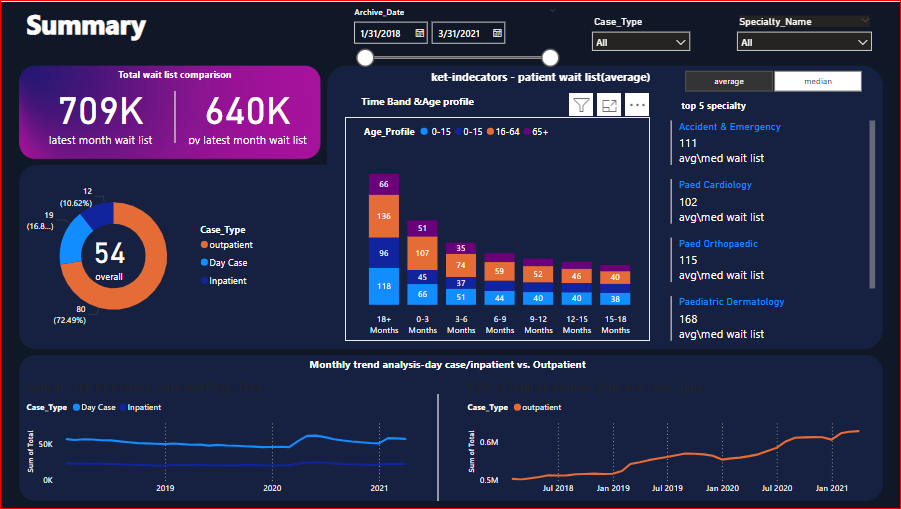

The page's visual inventory and layout, read from the dashboard file:
{"tool":"powerbi","page":{"name":"Summary","canvas":[1280,720],"ordinal":0},"visuals":[{"type":"card","fields":{"Values":["all_data.latest month wait list"]},"box":[46.8,107.7,194.2,99.2],"z":0},{"type":"card","fields":{"Values":["all_data.py latest month wait list"]},"box":[258,107.7,188.5,99.2],"z":1000},{"type":"slicer","fields":{"Values":["calculation method.calc method"]},"box":[946.8,90.7,300.5,42.5],"z":2000},{"type":"donutChart","fields":{"Category":["all_data.Case_Type"],"Y":["all_data.avg\\med wait list"]},"box":[34,239.5,340.2,240.9],"z":3000},{"type":"columnChart","fields":{"Y":["all_data.avg\\med wait list"],"Category":["all_data.Time_Bands"],"Series":["all_data.Age_Profile"]},"box":[490.4,163,432.3,317.5],"z":4000},{"type":"multiRowCard","fields":{"Values":["all_data.Specialty_Name","all_data.avg\\med wait list"]},"box":[946.8,163,300.5,324.6],"z":5000},{"type":"lineChart","fields":{"Y":["Sum(all_data.Total)"],"Category":["all_data.Archive_Date"],"Series":["all_data.Case_Type"]},"box":[34,535.7,559.8,171.5],"z":6000},{"type":"lineChart","fields":{"Y":["Sum(all_data.Total)"],"Category":["all_data.Archive_Date"],"Series":["all_data.Case_Type"]},"box":[659.1,535.7,588.2,171.5],"z":7000},{"type":"slicer","fields":{"Values":["all_data.Archive_Date"]},"box":[490.4,0,311.8,103.5],"z":8000},{"type":"slicer","fields":{"Values":["all_data.Case_Type"]},"box":[830.6,14.2,158.7,63.8],"z":9000},{"type":"slicer","fields":{"Values":["all_data.Specialty_Name"]},"box":[1036.1,14.2,211.2,63.8],"z":10000},{"type":"textbox","box":[34,0,266.5,60.9],"z":11000},{"type":"card","fields":{"Values":["all_data.avg\\med wait list"]},"box":[95,311.8,121.9,95],"z":12000},{"type":"shape","box":[240.9,126.1,17,73.7],"z":13000},{"type":"textbox","box":[490.4,126.1,205.5,36.9],"z":14000},{"type":"textbox","box":[946.8,133.2,131.8,29.8],"z":15000},{"type":"textbox","box":[258,497.5,755.4,38.3],"z":16000},{"type":"textbox","box":[110.6,89.3,277.8,36.9],"z":17000},{"type":"shape","box":[608,555.6,28.3,151.7],"z":18000},{"type":"card","fields":{"Values":["all_data.Denamic Title"]},"box":[559.8,85,416.7,45.4],"z":19000}]}

Visuals, with their boxes in screenshot pixels (x1, y1, x2, y2), scaled from the page's 1280x720 canvas onto the 901x509 screenshot:
card - all_data.latest month wait list: box(33, 76, 170, 146)
card - all_data.py latest month wait list: box(182, 76, 314, 146)
slicer - calculation method.calc method: box(666, 64, 878, 94)
donutChart - all_data.Case_Type x all_data.avg\med wait list: box(24, 169, 263, 340)
columnChart - all_data.avg\med wait list x all_data.Time_Bands: box(345, 115, 649, 340)
multiRowCard - all_data.Specialty_Name x all_data.avg\med wait list: box(666, 115, 878, 345)
lineChart - Sum(all_data.Total) x all_data.Archive_Date: box(24, 379, 418, 500)
lineChart - Sum(all_data.Total) x all_data.Archive_Date: box(464, 379, 878, 500)
slicer - all_data.Archive_Date: box(345, 0, 565, 73)
slicer - all_data.Case_Type: box(585, 10, 696, 55)
slicer - all_data.Specialty_Name: box(729, 10, 878, 55)
textbox: box(24, 0, 212, 43)
card - all_data.avg\med wait list: box(67, 220, 153, 288)
shape: box(170, 89, 182, 141)
textbox: box(345, 89, 490, 115)
textbox: box(666, 94, 759, 115)
textbox: box(182, 352, 713, 379)
textbox: box(78, 63, 273, 89)
shape: box(428, 393, 448, 500)
card - all_data.Denamic Title: box(394, 60, 687, 92)
